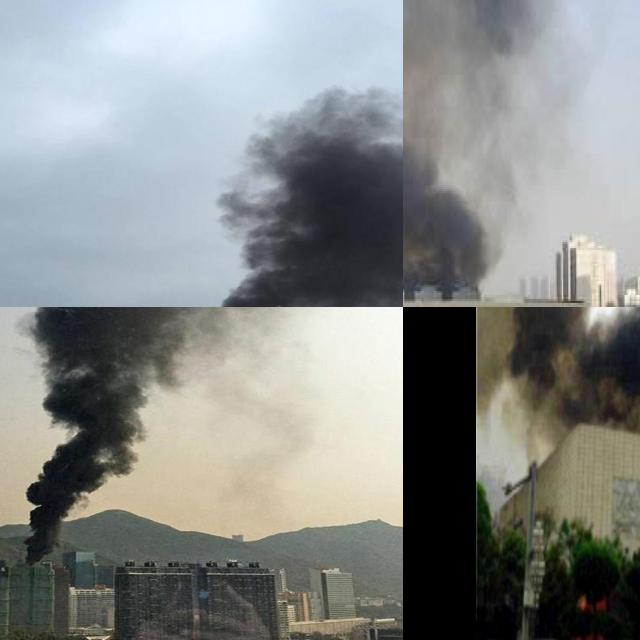smoke: (17, 307, 354, 564), (209, 0, 403, 307), (403, 0, 597, 295), (476, 307, 640, 448)
